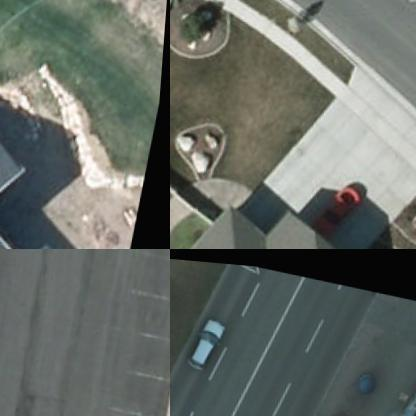car: (314, 174, 370, 236), (191, 309, 231, 367)
